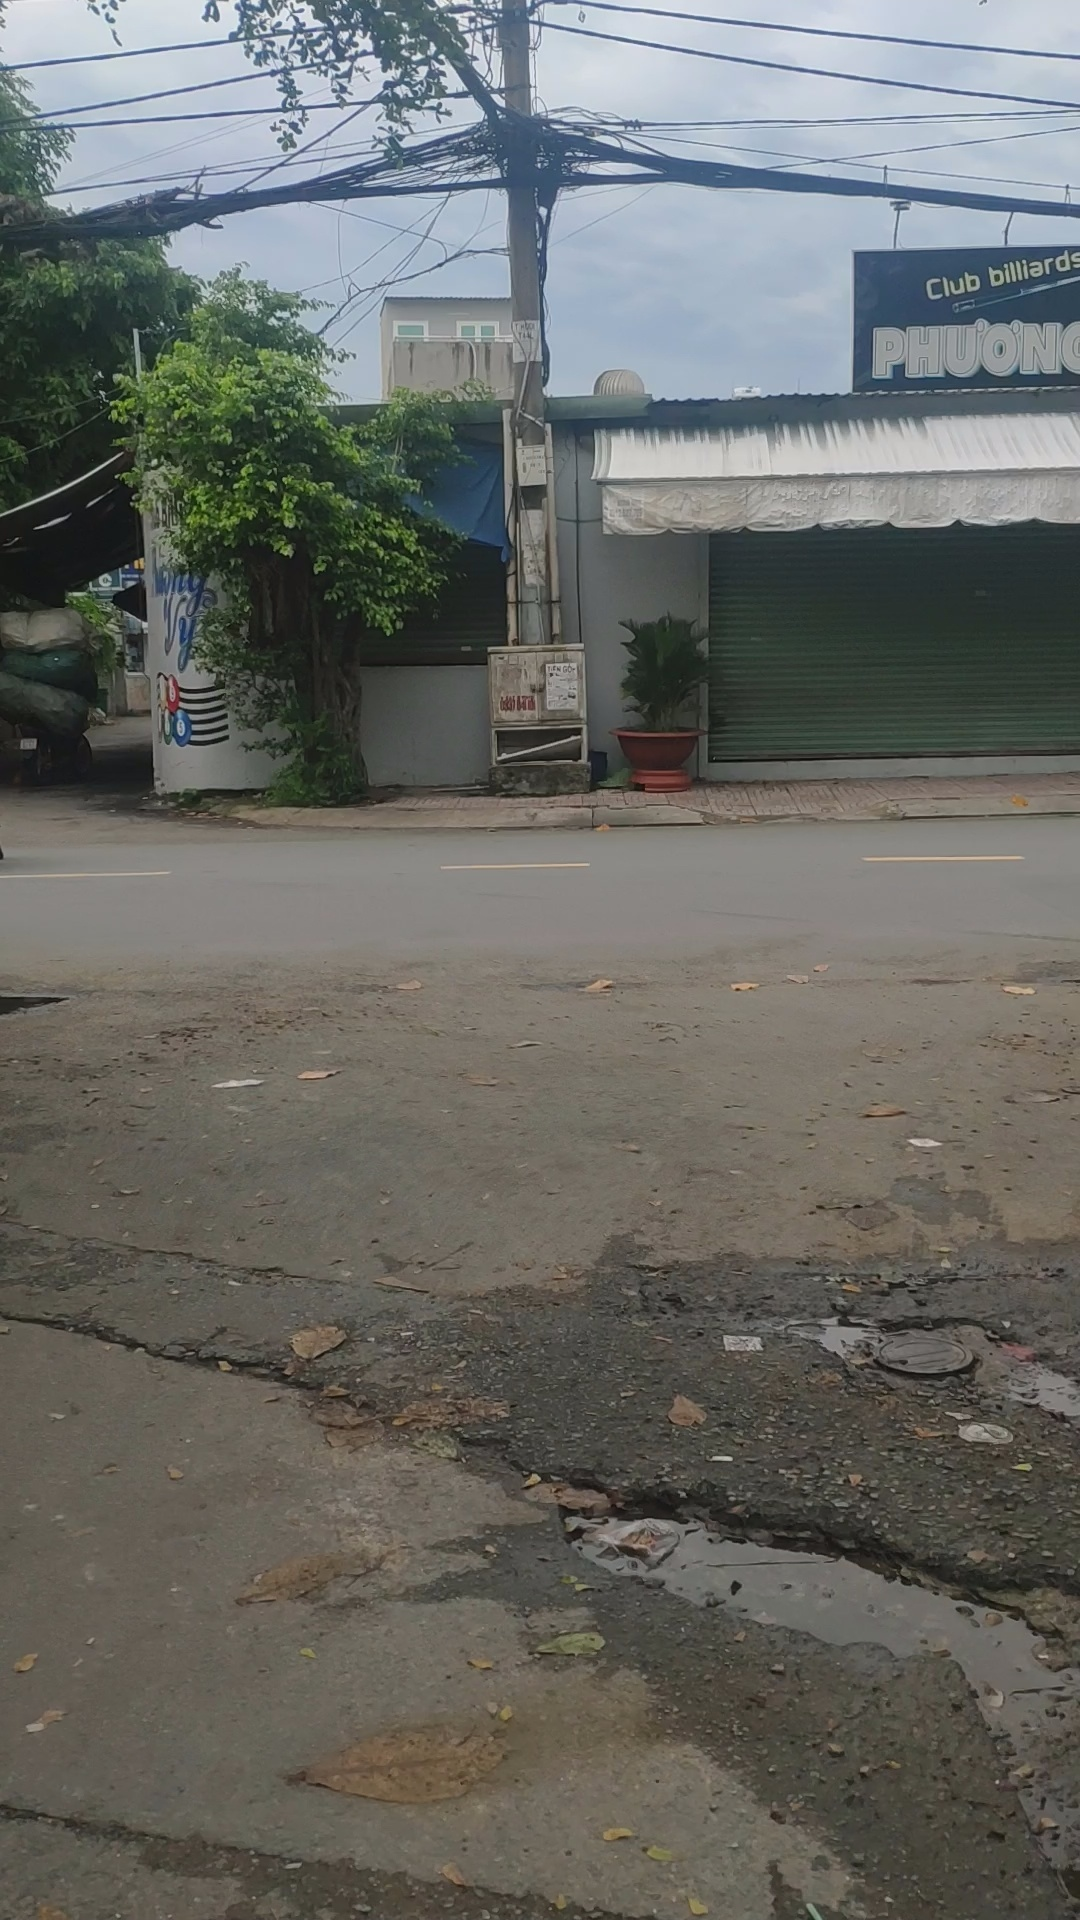hole: (516, 1462, 1080, 1680), (785, 1283, 1080, 1427)
